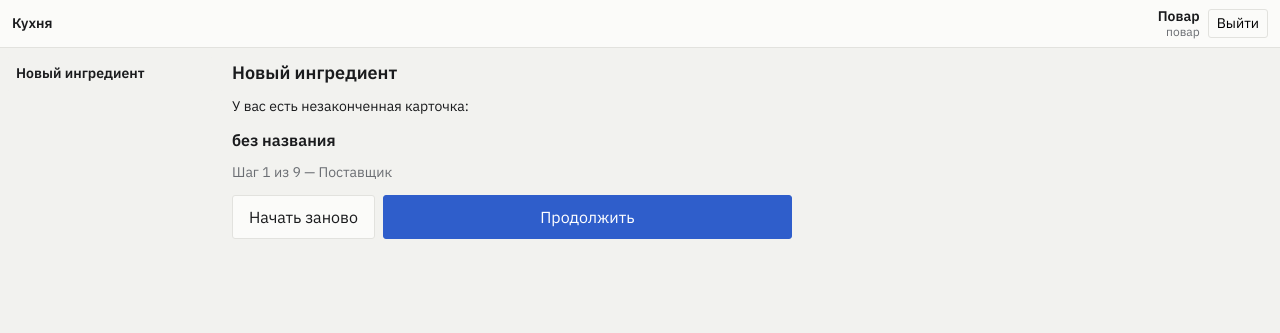
it: «Начать заново» во время отправки — текст сервера, нового черновика нет
Click the button "Начать заново" at (303, 217), box top-left (232, 195), bottom-right (375, 239)
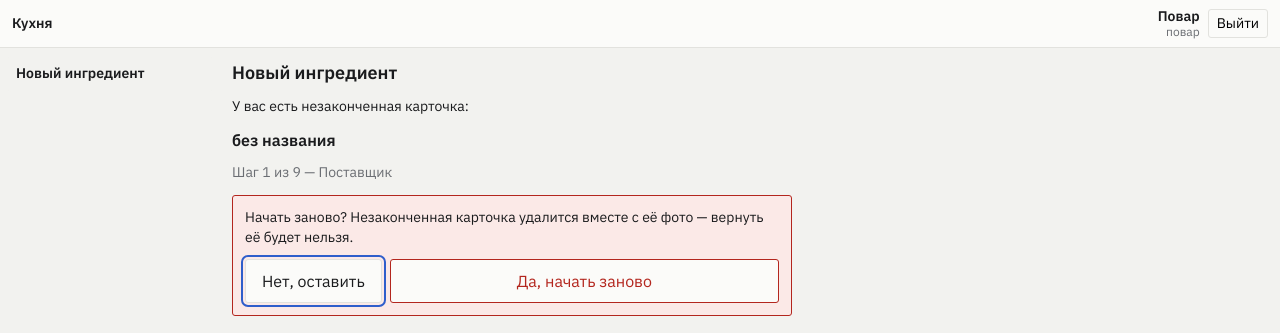
Click the button "Да, начать заново" at (584, 281), box top-left (390, 259), bottom-right (779, 303)
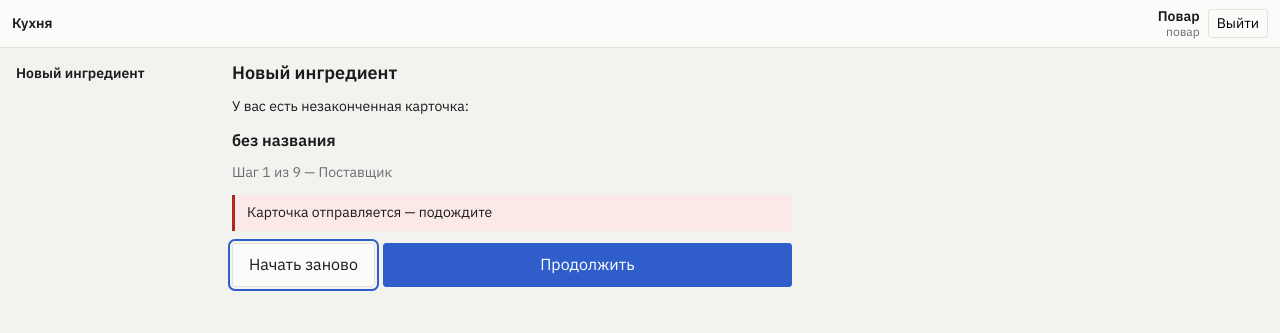
expect the message reads "Карточка отправляется — подождите": met, box top-left (247, 203), bottom-right (492, 221)
